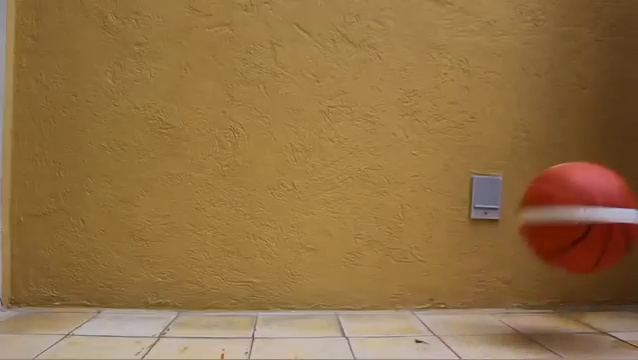ball: (519, 162, 638, 274)
